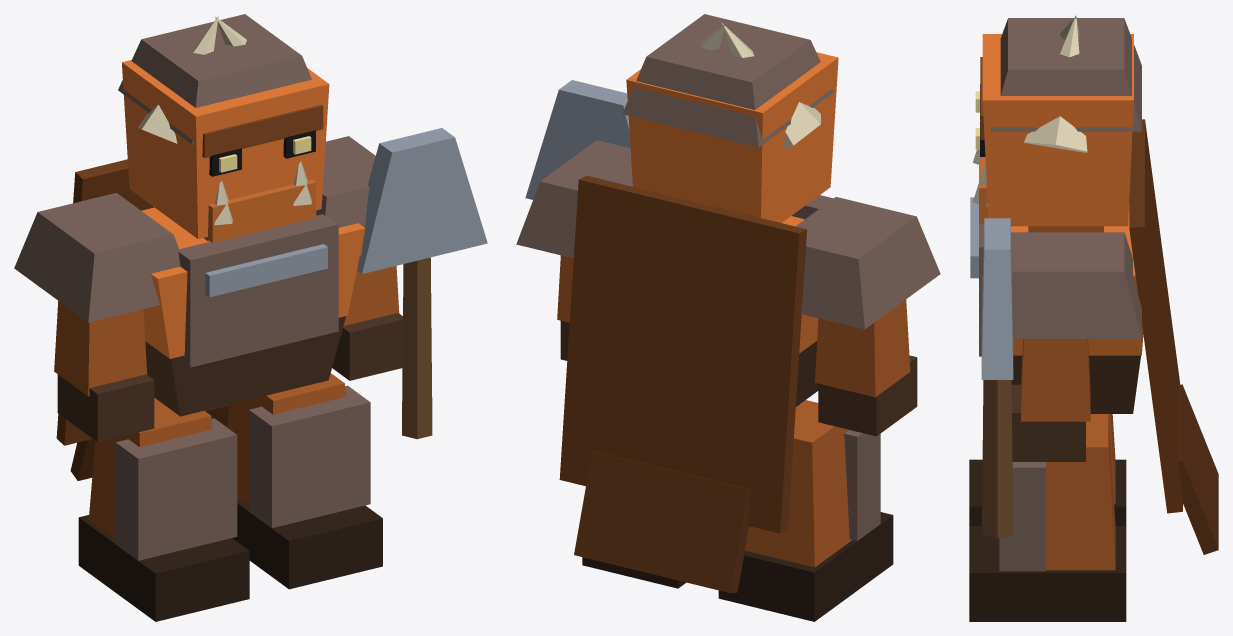
File: enemy_miniboss.glb
3 views of the same model, side by side, from view 1: azimuth 30°, elevation 25°; view 2: azimuth 150°, elevation 25°; view 3: azimuth 270°, elevation 25° (orthographic). The views are drawn at different scales.
Parts seen in each view (by area): view 1: enemy_miniboss; view 2: enemy_miniboss; view 3: enemy_miniboss.
Boxes of the visible parts, x1,y1,x2,y2 form: enemy_miniboss: (14,14,487,621); enemy_miniboss: (516,14,940,621); enemy_miniboss: (969,14,1218,621).
Size of the model in its own units: 0.8795 by 1.15 by 0.4719.
